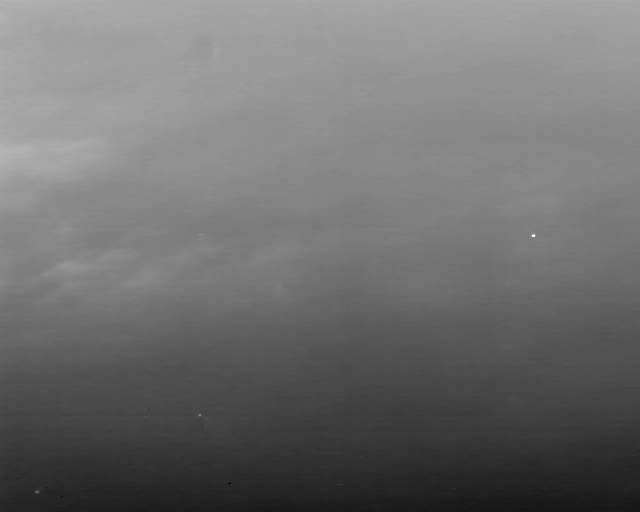Target: (532, 234, 537, 239), (36, 491, 41, 495), (198, 415, 202, 418)
